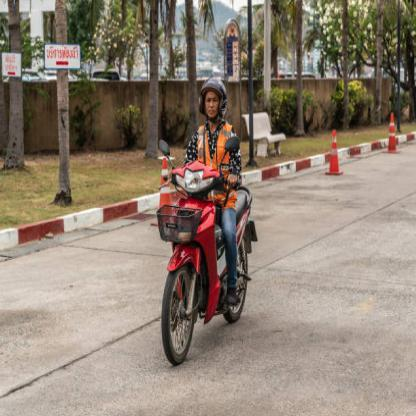Motorcycle: (146, 144, 258, 372)
